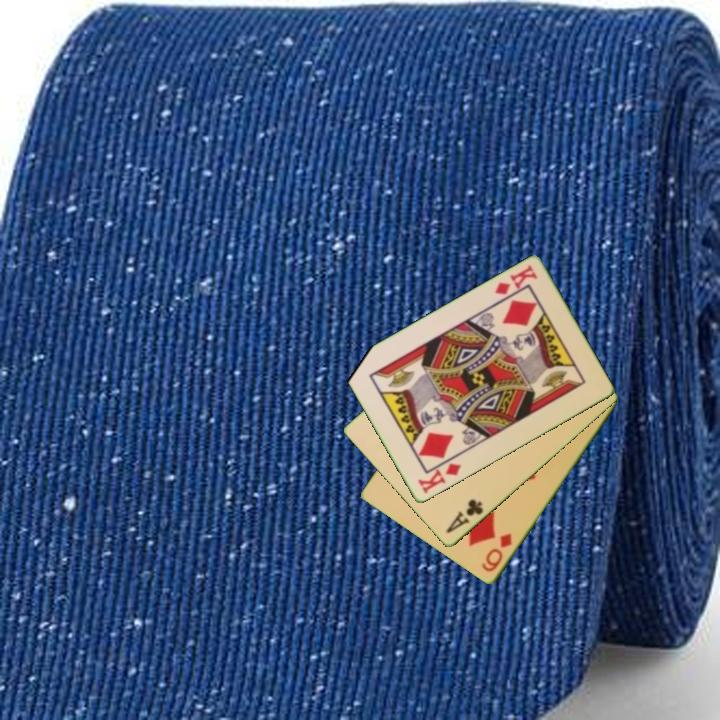6d: (478, 530, 515, 575)
Ac: (442, 496, 486, 537)
Kd: (414, 460, 464, 497), (491, 261, 540, 298)
